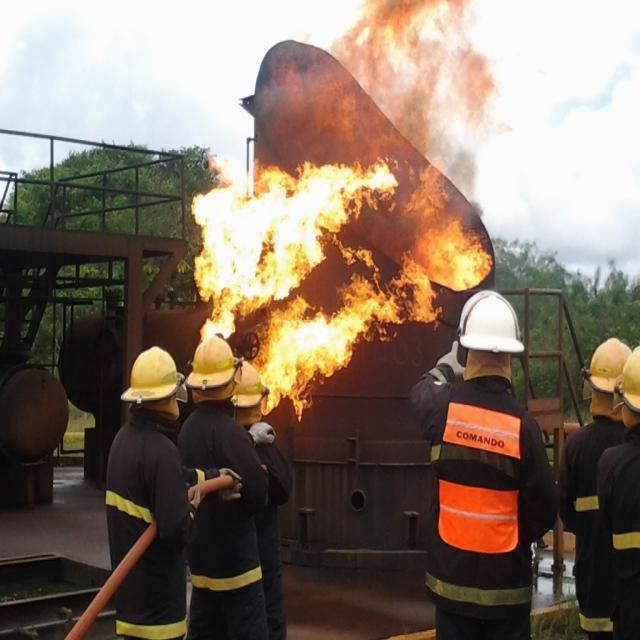Fire: (189, 157, 492, 426)
Smoke: (253, 0, 514, 234)
